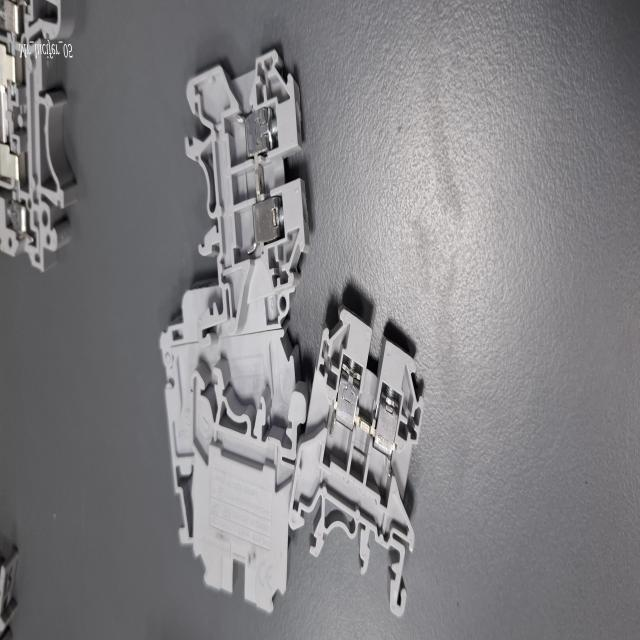Inverted: (170, 378, 308, 634)
Pass: (270, 261, 446, 598), (192, 19, 324, 356)
